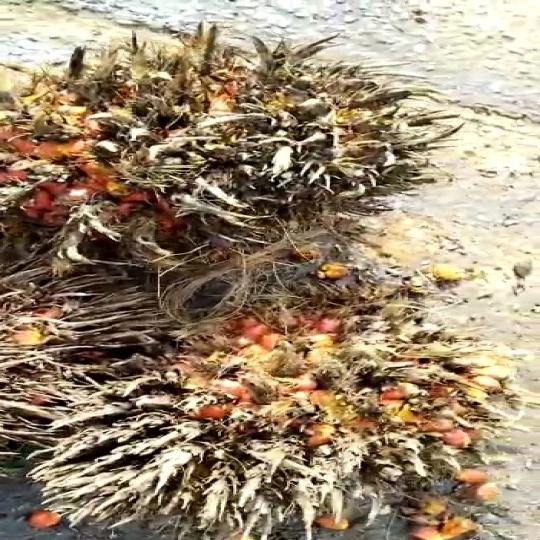terlalu masak: (0, 279, 499, 540), (10, 31, 437, 232)
